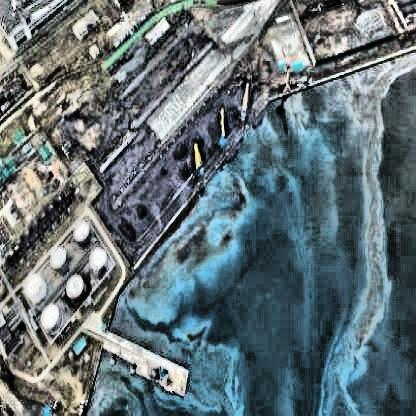sheen: (89, 172, 252, 416), (320, 55, 416, 416)
